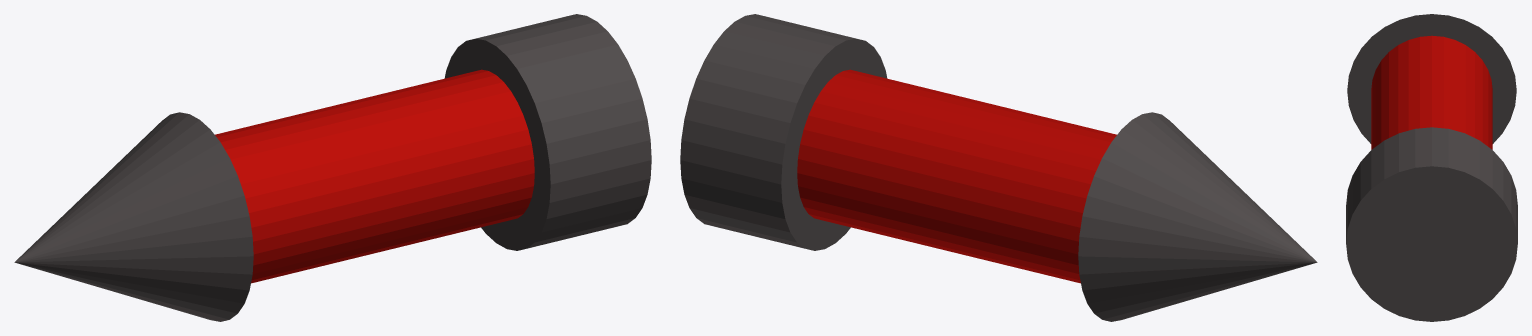
File: rocket.fbx
3 views of the same model, side by side, from view 1: azimuth 30°, elevation 25°; view 2: azimuth 150°, elevation 25°; view 3: azimuth 270°, elevation 25° (orthographic). The views are drawn at different scales.
Parts seen in each view (by area): view 1: Cone; view 2: Cone; view 3: Cone.
Boxes of the visible parts, x1,y1,x2,y2 form: Cone: (14,14,651,321); Cone: (680,14,1317,321); Cone: (1346,14,1517,321).
Size of the model in its own units: 65.1 by 21.01 by 21.01.
